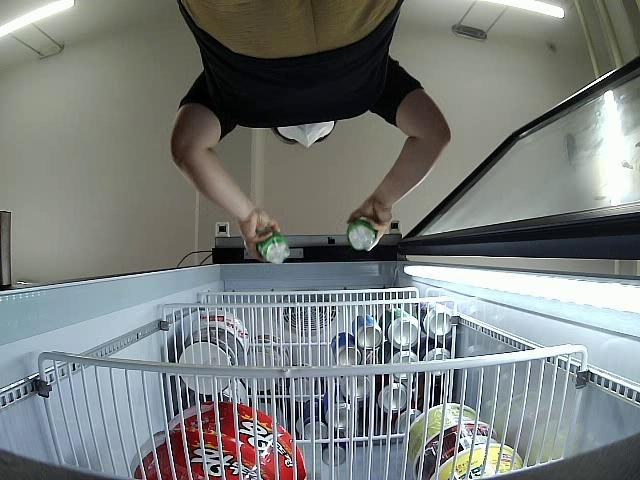00_hand: (347, 201, 396, 253), (241, 211, 281, 254)
18_trevi: (254, 230, 290, 267), (347, 218, 379, 253)
